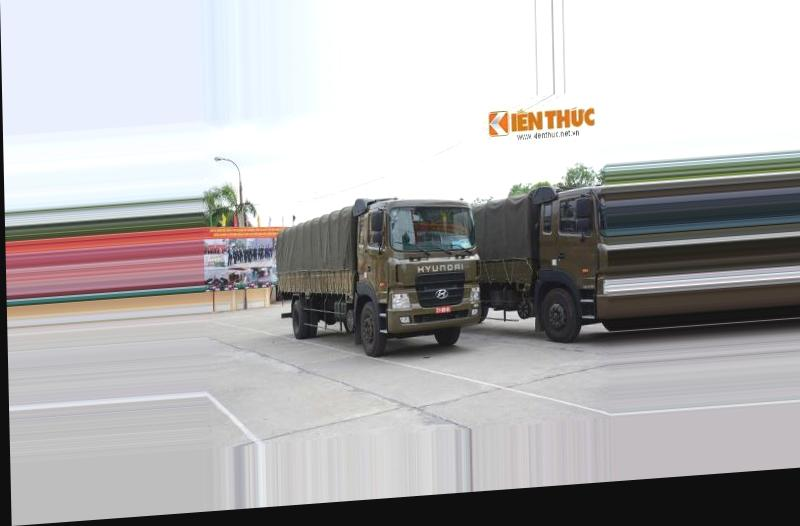License_Plate: (434, 306, 455, 314)
